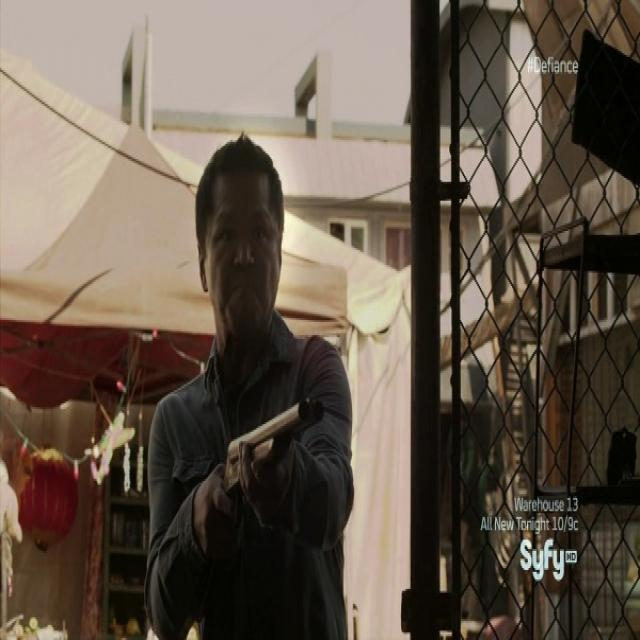rifle: (223, 383, 334, 501)
